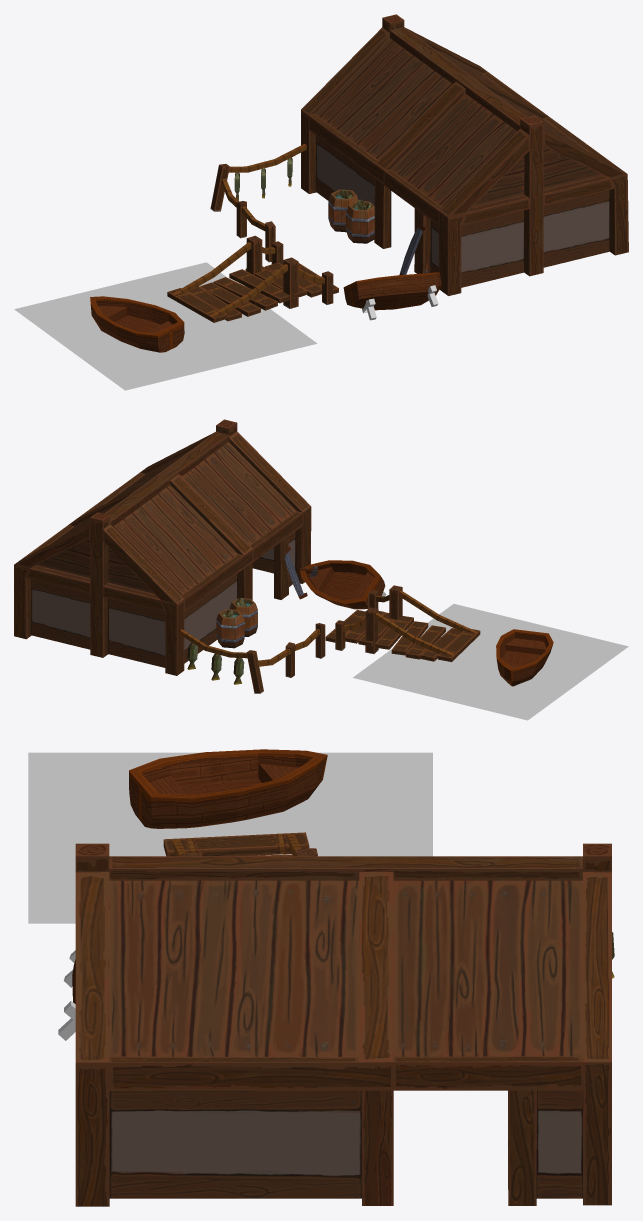
Rendered from FISHHOUSEEX1.fbx.
The picture shows the model from 3 angles, top to bottom: view 1: azimuth 30°, elevation 25°; view 2: azimuth 150°, elevation 25°; view 3: azimuth 270°, elevation 25°; orthographic projection. The views are drawn at different scales.
Parts seen in each view (by area): view 1: Cube.130, Plane, Cube.140, Cube, Cube.003, Cube.125, Cube.123, Cylinder.004, Cylinder.003, Cube.009, Cube.007; view 2: Cube.130, Plane, Cube.140, Cube.003, Cube, Cube.125, Cube.123, Cylinder.003, Cube.009, Cylinder.004, Cube.008, Cube.007; view 3: Cube.130, Plane, Cube, Cube.140.
Part boxes in pixels (<box>): Cube.130: <box>301,14,628,295</box>; Plane: <box>14,262,317,390</box>; Cube.140: <box>167,263,338,322</box>; Cube: <box>90,296,184,352</box>; Cube.003: <box>343,272,441,310</box>; Cube.125: <box>246,235,333,308</box>; Cube.123: <box>172,242,324,316</box>; Cylinder.004: <box>346,201,374,243</box>; Cylinder.003: <box>328,189,358,232</box>; Cube.009: <box>236,201,275,262</box>; Cube.007: <box>228,144,306,172</box>; Cube.130: <box>14,419,311,675</box>; Plane: <box>353,604,628,720</box>; Cube.140: <box>325,609,480,661</box>; Cube.003: <box>300,560,385,609</box>; Cube: <box>496,629,553,686</box>; Cube.125: <box>335,585,402,653</box>; Cube.123: <box>342,590,476,655</box>; Cylinder.003: <box>216,609,244,648</box>; Cube.009: <box>285,623,325,677</box>; Cylinder.004: <box>229,598,257,636</box>; Cube.008: <box>246,650,263,693</box>; Cube.007: <box>180,629,247,658</box>; Cube.130: <box>75,843,611,1206</box>; Plane: <box>28,752,432,923</box>; Cube: <box>129,749,327,828</box>; Cube.140: <box>163,832,309,856</box>.
Bounding box in the file's own units: 1177 × 354 × 636.
